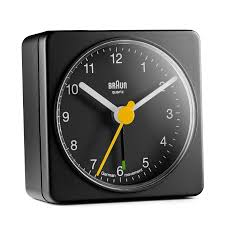alarm_clock: (15, 23, 203, 204)
